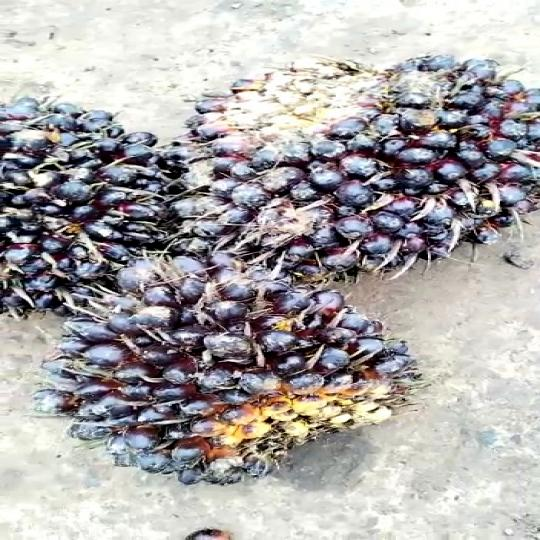mentah: (170, 44, 540, 284), (48, 265, 412, 483), (0, 83, 173, 314)
